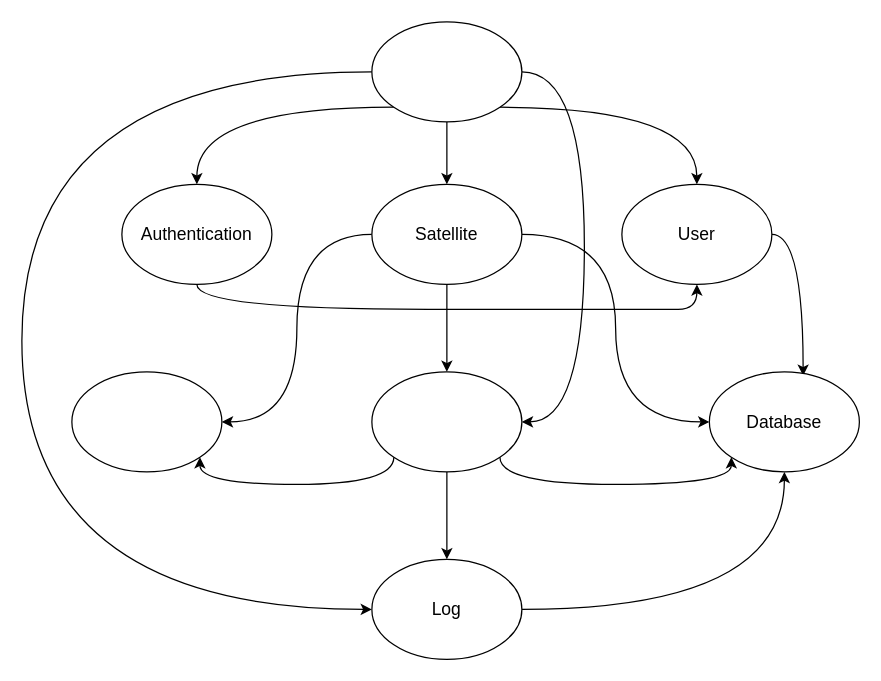
Image size: 881x681. Some labels were removed from this diagram. Here are the shapes that lost their labels. From the top down, the centre of each, then its label:
At (446,71): "Backend Service".
At (146,421): "Satellite Queue".
At (446,421): "Schedule".
